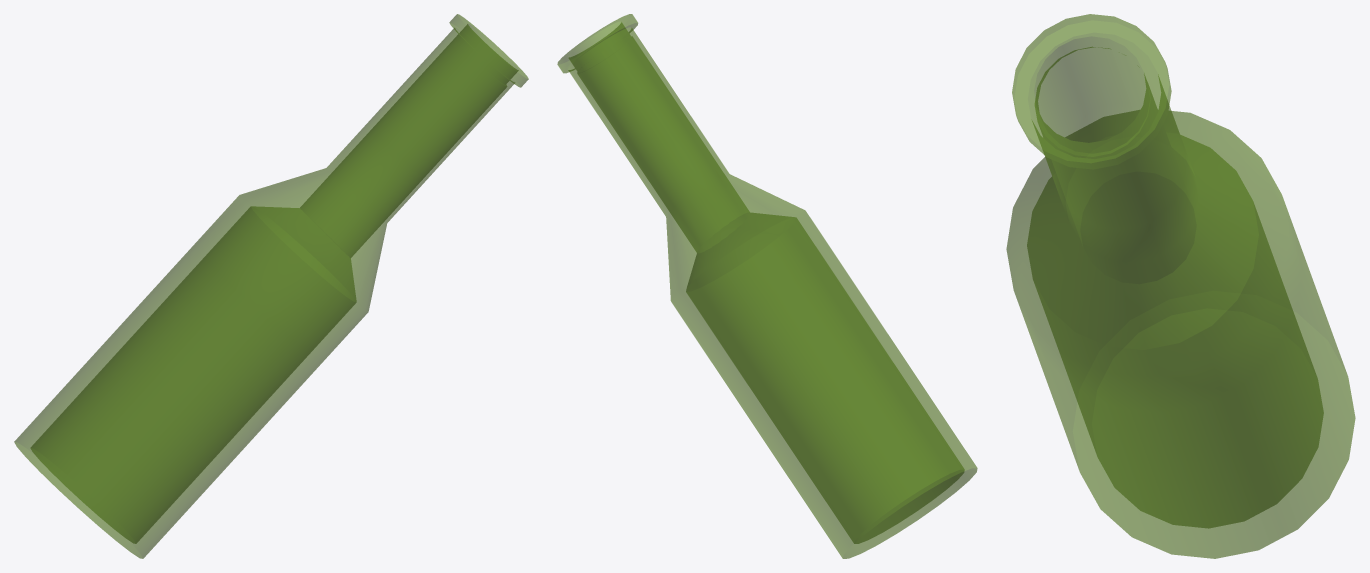
File: bottle.glb
3 views of the same model, side by side, from view 1: azimuth 30°, elevation 25°; view 2: azimuth 150°, elevation 25°; view 3: azimuth 270°, elevation 25° (orthographic). The views are drawn at different scales.
Visible parts, largest first — view 1: polySurface4; view 2: polySurface4; view 3: polySurface4.
Part boxes in pixels (x1,y1,x2,y2): polySurface4: (14,14,528,558); polySurface4: (557,14,977,558); polySurface4: (1006,14,1355,558).
Size of the model in its own units: 0.044 by 0.0437 by 0.0177.
